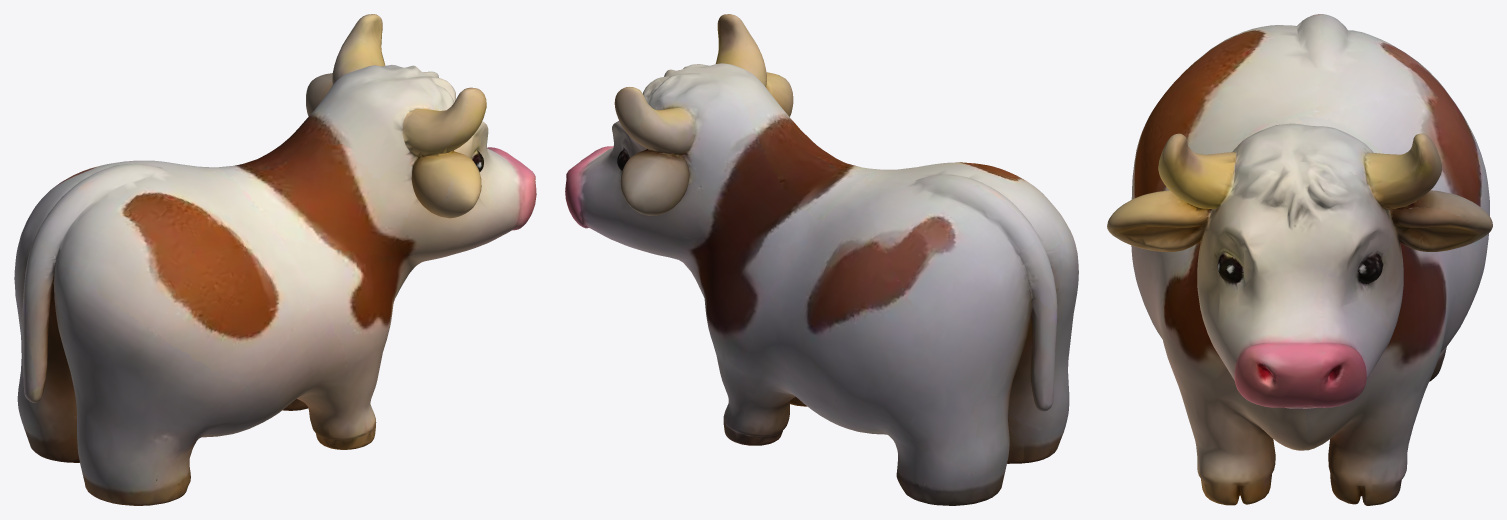
File: cow.glb
3 renders of one model, left to right at view 1: azimuth 30°, elevation 25°; view 2: azimuth 150°, elevation 25°; view 3: azimuth 270°, elevation 25°, orthographic. The views are drawn at different scales.
Visible parts, largest first — view 1: tripo_node_d679e20d-3a3f-4590-8224-db29581f6020; view 2: tripo_node_d679e20d-3a3f-4590-8224-db29581f6020; view 3: tripo_node_d679e20d-3a3f-4590-8224-db29581f6020.
Part boxes in pixels (box(x1,y1,x2,y2)): tripo_node_d679e20d-3a3f-4590-8224-db29581f6020: box(14, 14, 536, 505); tripo_node_d679e20d-3a3f-4590-8224-db29581f6020: box(565, 14, 1078, 505); tripo_node_d679e20d-3a3f-4590-8224-db29581f6020: box(1107, 14, 1492, 505).
Bounding box in the file's own units: 0.9996 × 0.6665 × 0.5593.
1 material, 1 textured.
